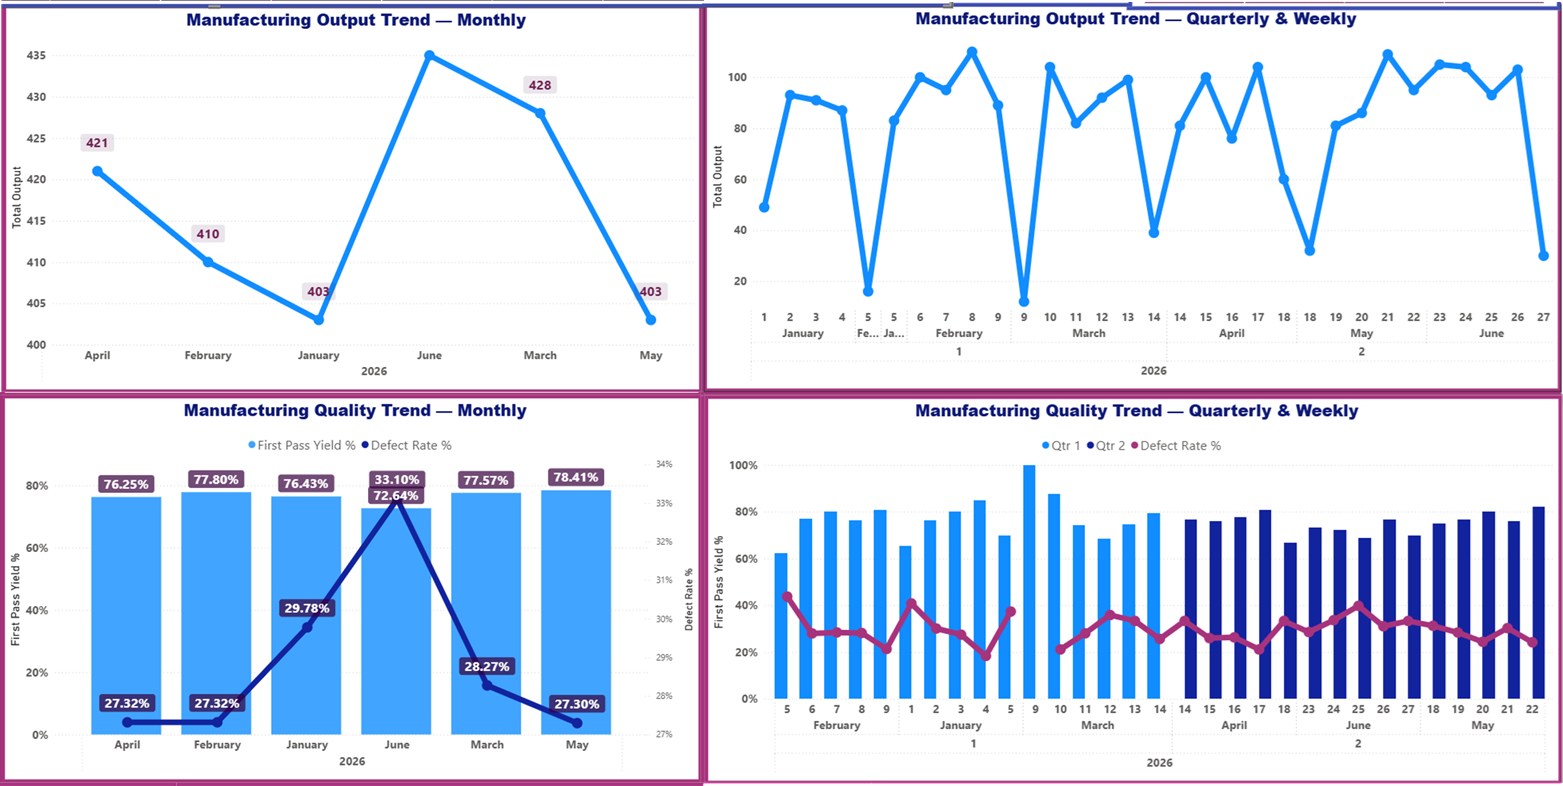

Layout of this report page (visuals, bound fields, positions):
{"tool":"powerbi","page":{"name":"Manufacturing Overview","canvas":[3050,1950],"ordinal":0},"visuals":[{"type":"cardVisual","fields":{"Data":["mlcc_manufacturing fact_manufacturing.Yield %"]},"box":[527.5,17.5,250,132],"z":0},{"type":"cardVisual","fields":{"Data":["mlcc_manufacturing fact_manufacturing.Defective Lots"]},"box":[1277.5,17.5,250,132],"z":1000},{"type":"cardVisual","fields":{"Data":["mlcc_manufacturing fact_manufacturing.Defect Rate %"]},"box":[1527.5,17.5,250,132],"z":2000},{"type":"cardVisual","fields":{"Data":["mlcc_manufacturing fact_manufacturing.First Pass Lots"]},"box":[777.5,17.5,250,132],"z":3000},{"type":"cardVisual","fields":{"Data":["mlcc_manufacturing fact_manufacturing.First Pass Yield %"]},"box":[1027.5,17.5,250,132],"z":4000},{"type":"lineStackedColumnComboChart","title":"Performance by Product Size","fields":{"Category":["mlcc_manufacturing dim_product.Product_Size"],"Y":["mlcc_manufacturing fact_manufacturing.First Pass Yield %"],"Y2":["mlcc_manufacturing fact_manufacturing.Defect Rate %"]},"box":[27.3,279.3,750,554],"z":5000},{"type":"lineStackedColumnComboChart","title":"Performance by Capacitance Rating","fields":{"Category":["mlcc_manufacturing dim_product.Capacitance_Rating_pF"],"Y":["mlcc_manufacturing fact_manufacturing.First Pass Yield %"],"Y2":["mlcc_manufacturing fact_manufacturing.Defect Rate %"]},"box":[27.3,833.3,750,554],"z":6000},{"type":"lineChart","title":"Manufacturing Output Trend — Monthly","fields":{"Category":["mlcc_manufacturing dim_date.Year","mlcc_manufacturing dim_date.Month"],"Y":["mlcc_manufacturing fact_manufacturing.Total Output"]},"box":[777.3,279.3,1000,554],"z":7000},{"type":"lineClusteredColumnComboChart","title":"Manufacturing Quality Trend — Monthly","fields":{"Category":["mlcc_manufacturing dim_date.Year","mlcc_manufacturing dim_date.Month"],"Y":["mlcc_manufacturing fact_manufacturing.First Pass Yield %"],"Y2":["mlcc_manufacturing fact_manufacturing.Defect Rate %"]},"box":[777.3,833.3,1000,554],"z":8000},{"type":"lineChart","title":"Manufacturing Output Trend — Quarterly & Weekly","fields":{"Category":["mlcc_manufacturing dim_date.Year","mlcc_manufacturing dim_date.Quarter","mlcc_manufacturing dim_date.Month","mlcc_manufacturing dim_date.Week"],"Y":["mlcc_manufacturing fact_manufacturing.Total Output"]},"box":[1776.3,278.8,1225,555],"z":9000},{"type":"lineClusteredColumnComboChart","title":"Manufacturing Quality Trend — Quarterly & Weekly","fields":{"Category":["mlcc_manufacturing dim_date.Year","mlcc_manufacturing dim_date.Quarter","mlcc_manufacturing dim_date.Month","mlcc_manufacturing dim_date.Week"],"Series":["mlcc_manufacturing dim_date.Date.Variation.Date Hierarchy.Quarter"],"Y":["mlcc_manufacturing fact_manufacturing.First Pass Yield %"],"Y2":["mlcc_manufacturing fact_manufacturing.Defect Rate %"]},"box":[1776.3,833.8,1225,555],"z":10000},{"type":"slicer","title":"Product Size","fields":{"Values":["mlcc_manufacturing dim_product.Product_Size"]},"box":[1776.7,16.7,478.3,133.3],"z":11000},{"type":"slicer","title":"Capacitance Rating (pF)","fields":{"Values":["mlcc_manufacturing dim_product.Capacitance_Rating_pF"]},"box":[2248.3,16.7,751.7,133.3],"z":12000},{"type":"clusteredBarChart","title":"Process Attention → Top 5 processes by Defect Rate %","fields":{"Category":["mlcc_manufacturing dim_process.Process"],"Y":["mlcc_manufacturing fact_manufacturing.Defect Rate %"]},"box":[26.7,1386.7,1000,536.7],"z":13000},{"type":"clusteredBarChart","title":"Line Attention → Top 5 lines by Defect Rate %","fields":{"Category":["mlcc_manufacturing dim_machine.Line"],"Y":["mlcc_manufacturing fact_manufacturing.Defect Rate %"]},"box":[1026.7,1386.7,986.7,536.7],"z":14000},{"type":"clusteredBarChart","title":"Machine Attention → Top 5 machines by Defect Rate %","fields":{"Category":["mlcc_manufacturing dim_machine.Machine"],"Y":["mlcc_manufacturing fact_manufacturing.Defect Rate %"]},"box":[2013.3,1386.7,986.7,536.7],"z":15000},{"type":"slicer","title":"Process","fields":{"Values":["mlcc_manufacturing dim_process.Process"]},"box":[28,150,2104,134],"z":16000},{"type":"slicer","title":"Defect Category","fields":{"Values":["mlcc_manufacturing fact_manufacturing.Defect_Category"]},"box":[2380,150,620,134.3],"z":17000},{"type":"slicer","title":"Shift","fields":{"Values":["mlcc_manufacturing fact_manufacturing.Shift"]},"box":[2120,150,268.3,133.3],"z":18000},{"type":"cardVisual","fields":{"Data":["mlcc_manufacturing fact_manufacturing.Total Output"]},"box":[28.3,18.3,250,132],"z":19000},{"type":"cardVisual","fields":{"Data":["mlcc_manufacturing fact_manufacturing.Finished Lots"]},"box":[276.7,18.3,250,132],"z":20000}]}

Visuals, with their boxes on the page's 3050x1950 design canvas (x1, y1, x2, y2). These are canvas units, not pixel positions in the 1563x786 screenshot, which may show the page scaled, cropped or inside an application window:
cardVisual - mlcc_manufacturing fact_manufacturing.Yield %: bbox(528, 18, 778, 150)
cardVisual - mlcc_manufacturing fact_manufacturing.Defective Lots: bbox(1278, 18, 1528, 150)
cardVisual - mlcc_manufacturing fact_manufacturing.Defect Rate %: bbox(1528, 18, 1778, 150)
cardVisual - mlcc_manufacturing fact_manufacturing.First Pass Lots: bbox(778, 18, 1028, 150)
cardVisual - mlcc_manufacturing fact_manufacturing.First Pass Yield %: bbox(1028, 18, 1278, 150)
"Performance by Product Size" lineStackedColumnComboChart: bbox(27, 279, 777, 833)
"Performance by Capacitance Rating" lineStackedColumnComboChart: bbox(27, 833, 777, 1387)
"Manufacturing Output Trend — Monthly" lineChart: bbox(777, 279, 1777, 833)
"Manufacturing Quality Trend — Monthly" lineClusteredColumnComboChart: bbox(777, 833, 1777, 1387)
"Manufacturing Output Trend — Quarterly & Weekly" lineChart: bbox(1776, 279, 3001, 834)
"Manufacturing Quality Trend — Quarterly & Weekly" lineClusteredColumnComboChart: bbox(1776, 834, 3001, 1389)
"Product Size" slicer: bbox(1777, 17, 2255, 150)
"Capacitance Rating (pF)" slicer: bbox(2248, 17, 3000, 150)
"Process Attention → Top 5 processes by Defect Rate %" clusteredBarChart: bbox(27, 1387, 1027, 1923)
"Line Attention → Top 5 lines by Defect Rate %" clusteredBarChart: bbox(1027, 1387, 2013, 1923)
"Machine Attention → Top 5 machines by Defect Rate %" clusteredBarChart: bbox(2013, 1387, 3000, 1923)
"Process" slicer: bbox(28, 150, 2132, 284)
"Defect Category" slicer: bbox(2380, 150, 3000, 284)
"Shift" slicer: bbox(2120, 150, 2388, 283)
cardVisual - mlcc_manufacturing fact_manufacturing.Total Output: bbox(28, 18, 278, 150)
cardVisual - mlcc_manufacturing fact_manufacturing.Finished Lots: bbox(277, 18, 527, 150)
